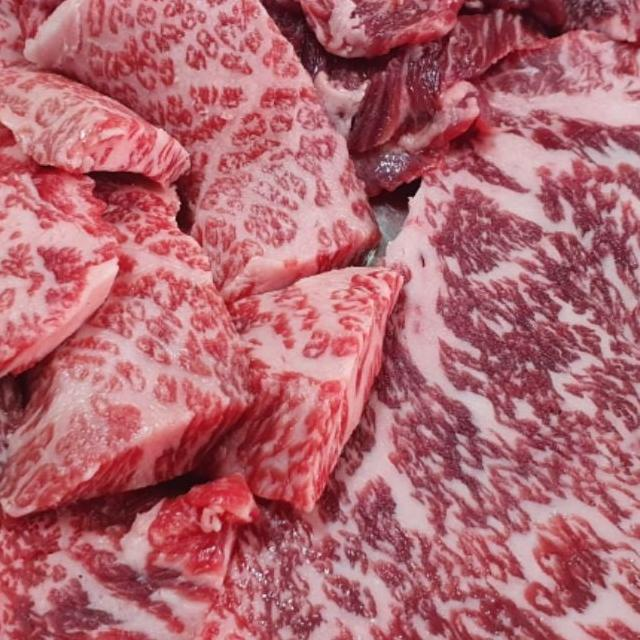beef: (0, 0, 401, 580), (373, 84, 640, 640), (283, 0, 640, 100)
